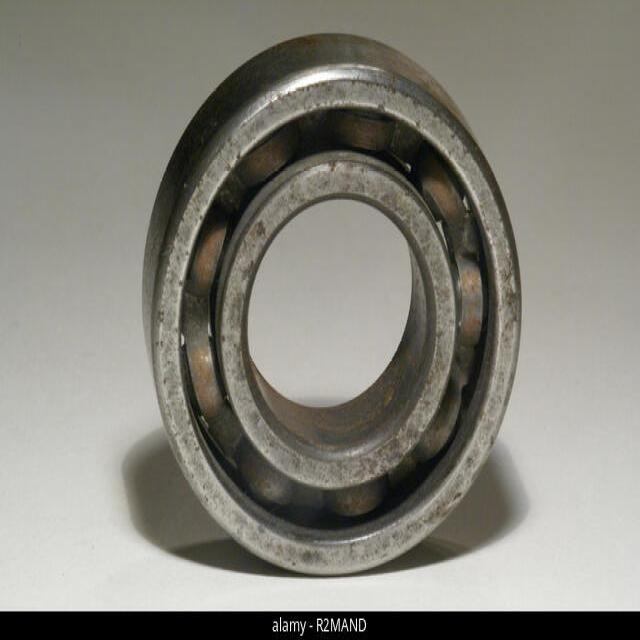Bearing: (141, 30, 524, 578)
